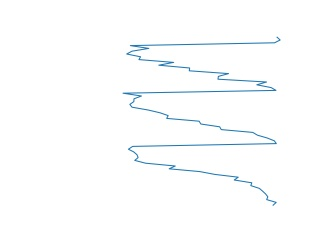distributaryMouthBar: (120, 34, 285, 206)
